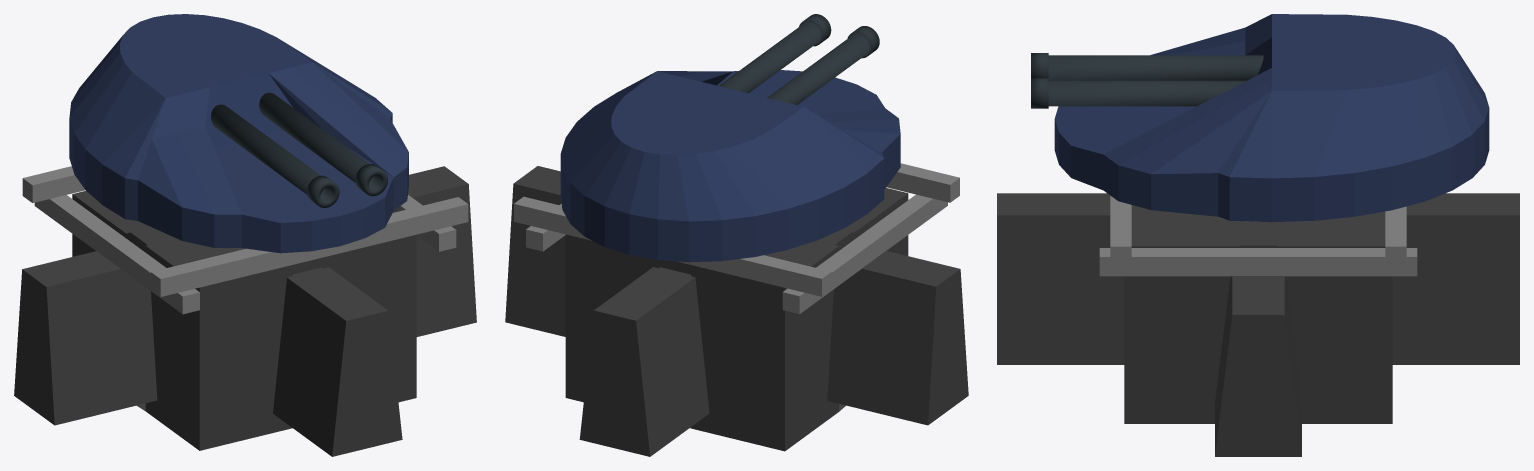
File: Wall_With_Turret.fbx
The picture shows the model from 3 angles, left to right: view 1: azimuth 30°, elevation 25°; view 2: azimuth 150°, elevation 25°; view 3: azimuth 270°, elevation 25°; orthographic projection. The views are drawn at different scales.
Visible parts, largest first — view 1: The Wall, Turret, Turret Supports, Barrels; view 2: The Wall, Turret, Turret Supports, Barrels; view 3: The Wall, Turret, Turret Supports, Barrels.
Part boxes in pixels (box(x1,y1,x2,y2)): The Wall: box(14, 166, 476, 456); Turret: box(69, 14, 408, 253); Turret Supports: box(22, 166, 468, 314); Barrels: box(211, 92, 387, 207); The Wall: box(505, 166, 968, 456); Turret: box(560, 70, 900, 262); Turret Supports: box(514, 163, 959, 313); Barrels: box(719, 14, 879, 104); The Wall: box(997, 193, 1519, 456); Turret: box(1054, 14, 1489, 222); Turret Supports: box(1099, 196, 1417, 276); Barrels: box(1031, 53, 1263, 108).
Size of the model in its own units: 200 by 133 by 200.
4 materials, 1 textured.
